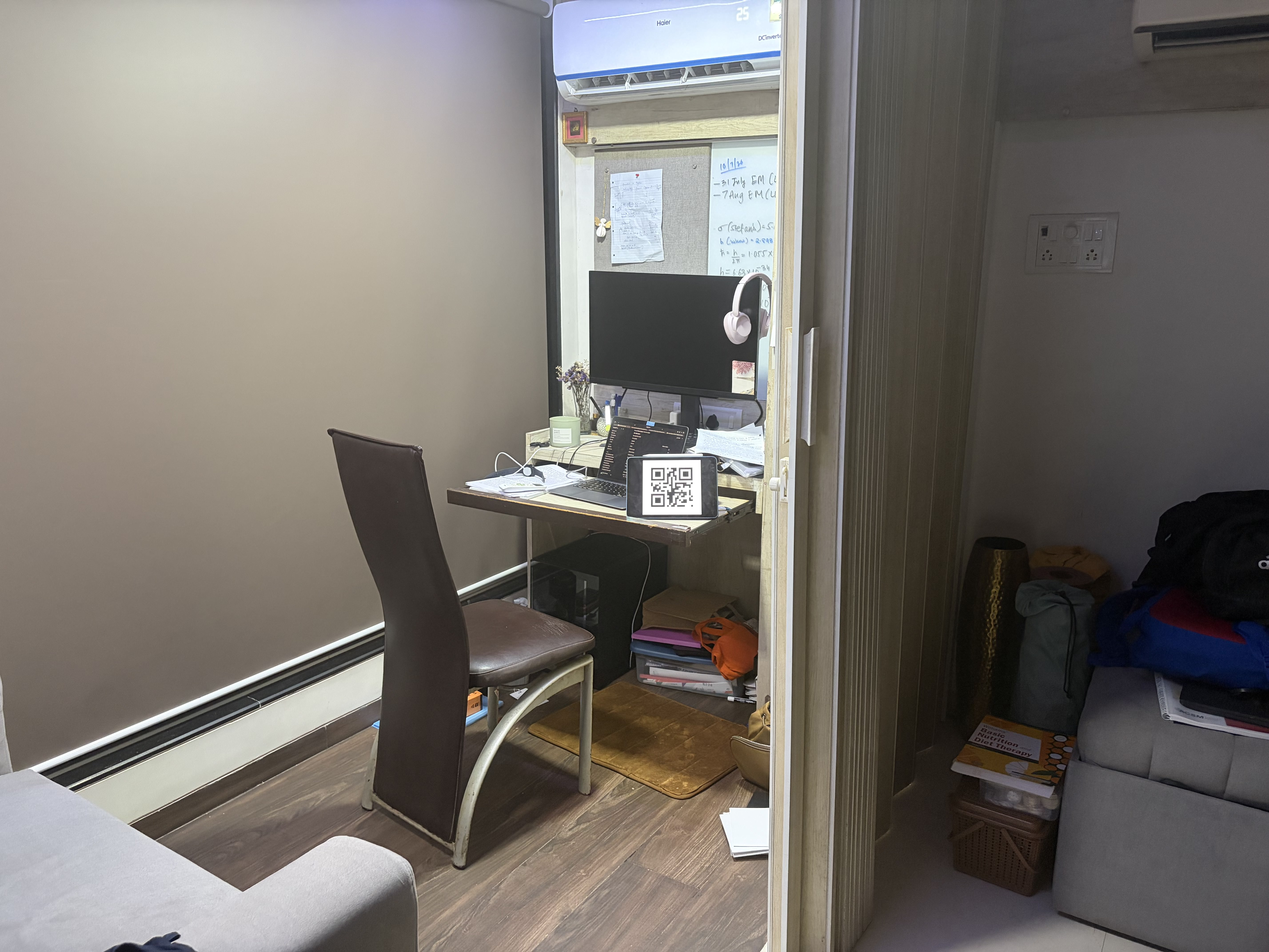QR: (642, 463, 702, 512)
